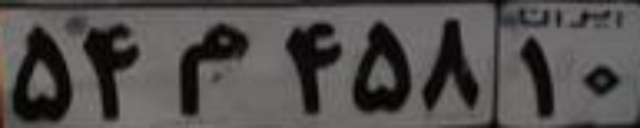0: (580, 64, 623, 95)
1: (517, 36, 554, 116)
4: (80, 24, 151, 121), (282, 22, 347, 113)
5: (12, 27, 74, 121), (354, 20, 410, 111)
8: (416, 18, 485, 110)
mim: (176, 24, 254, 116)
